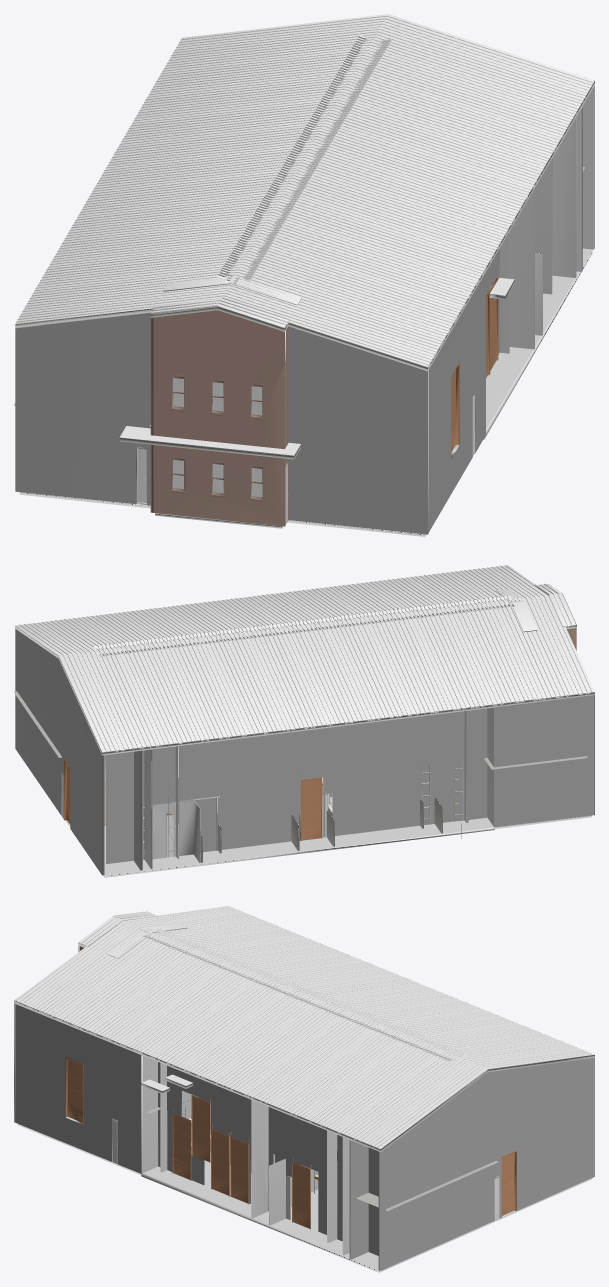
File: PhysicalPlant.glb
3 views of the same model, one above another, from view 1: azimuth 30°, elevation 25°; view 2: azimuth 150°, elevation 25°; view 3: azimuth 270°, elevation 25° (orthographic). The views are drawn at different scales.
Visible parts, largest first — view 1: grp_7_ExteriorShell_none, grp_5_ExteriorShell_none, grp_0_ExteriorShell_none, grp_3_ExteriorShell_none, grp_2_ExteriorShell_none, grp_47_Floors_L1, grp_30_CurtainWallMullions_L3, grp_14_ExteriorShell_none, grp_321_Walls_L1, grp_11_ExteriorShell_none, grp_21_CurtainWallPanels_L3, grp_1_ExteriorShell_none (+6 smaller); view 2: grp_7_ExteriorShell_none, grp_319_Walls_L1, grp_0_ExteriorShell_none, grp_5_ExteriorShell_none, grp_47_Floors_L1, grp_2_ExteriorShell_none, grp_21_CurtainWallPanels_L3, grp_14_ExteriorShell_none, grp_38_Doors_L1, grp_30_CurtainWallMullions_L3, grp_321_Walls_L1, grp_13_ExteriorShell_none (+3 smaller); view 3: grp_7_ExteriorShell_none, grp_0_ExteriorShell_none, grp_5_ExteriorShell_none, grp_319_Walls_L1, grp_2_ExteriorShell_none, grp_38_Doors_L1, grp_47_Floors_L1, grp_321_Walls_L1, grp_8_ExteriorShell_none, grp_65_Roofs_L3, grp_30_CurtainWallMullions_L3, grp_21_CurtainWallPanels_L3 (+3 smaller).
Boxes of the visible parts, bbox=[...] form: grp_7_ExteriorShell_none: bbox=[15, 14, 594, 524]; grp_5_ExteriorShell_none: bbox=[16, 16, 593, 504]; grp_0_ExteriorShell_none: bbox=[15, 86, 594, 534]; grp_3_ExteriorShell_none: bbox=[150, 310, 288, 526]; grp_2_ExteriorShell_none: bbox=[125, 117, 576, 533]; grp_47_Floors_L1: bbox=[19, 248, 592, 536]; grp_30_CurtainWallMullions_L3: bbox=[199, 36, 390, 286]; grp_14_ExteriorShell_none: bbox=[15, 80, 594, 459]; grp_321_Walls_L1: bbox=[486, 107, 582, 353]; grp_11_ExteriorShell_none: bbox=[42, 86, 592, 502]; grp_21_CurtainWallPanels_L3: bbox=[217, 35, 392, 284]; grp_1_ExteriorShell_none: bbox=[582, 87, 593, 249]; grp_7_ExteriorShell_none: bbox=[15, 565, 594, 857]; grp_319_Walls_L1: bbox=[106, 708, 487, 870]; grp_0_ExteriorShell_none: bbox=[15, 629, 594, 875]; grp_5_ExteriorShell_none: bbox=[19, 565, 592, 837]; grp_47_Floors_L1: bbox=[65, 793, 591, 877]; grp_2_ExteriorShell_none: bbox=[61, 628, 590, 868]; grp_21_CurtainWallPanels_L3: bbox=[93, 596, 523, 656]; grp_14_ExteriorShell_none: bbox=[17, 587, 594, 755]; grp_38_Doors_L1: bbox=[301, 777, 322, 840]; grp_30_CurtainWallMullions_L3: bbox=[97, 595, 521, 655]; grp_321_Walls_L1: bbox=[105, 711, 466, 863]; grp_13_ExteriorShell_none: bbox=[201, 778, 442, 862]; grp_7_ExteriorShell_none: bbox=[14, 906, 594, 1220]; grp_0_ExteriorShell_none: bbox=[16, 1004, 594, 1270]; grp_5_ExteriorShell_none: bbox=[16, 906, 591, 1199]; grp_319_Walls_L1: bbox=[158, 1062, 378, 1259]; grp_2_ExteriorShell_none: bbox=[14, 945, 349, 1255]; grp_38_Doors_L1: bbox=[172, 1095, 310, 1229]; grp_47_Floors_L1: bbox=[17, 1124, 592, 1272]; grp_321_Walls_L1: bbox=[158, 1063, 351, 1242]; grp_8_ExteriorShell_none: bbox=[65, 1056, 516, 1217]; grp_65_Roofs_L3: bbox=[14, 927, 594, 1151]; grp_30_CurtainWallMullions_L3: bbox=[140, 928, 464, 1060]; grp_21_CurtainWallPanels_L3: bbox=[141, 927, 467, 1062].
Bounding box in the file's own units: 87.65 × 26.73 × 88.52.
